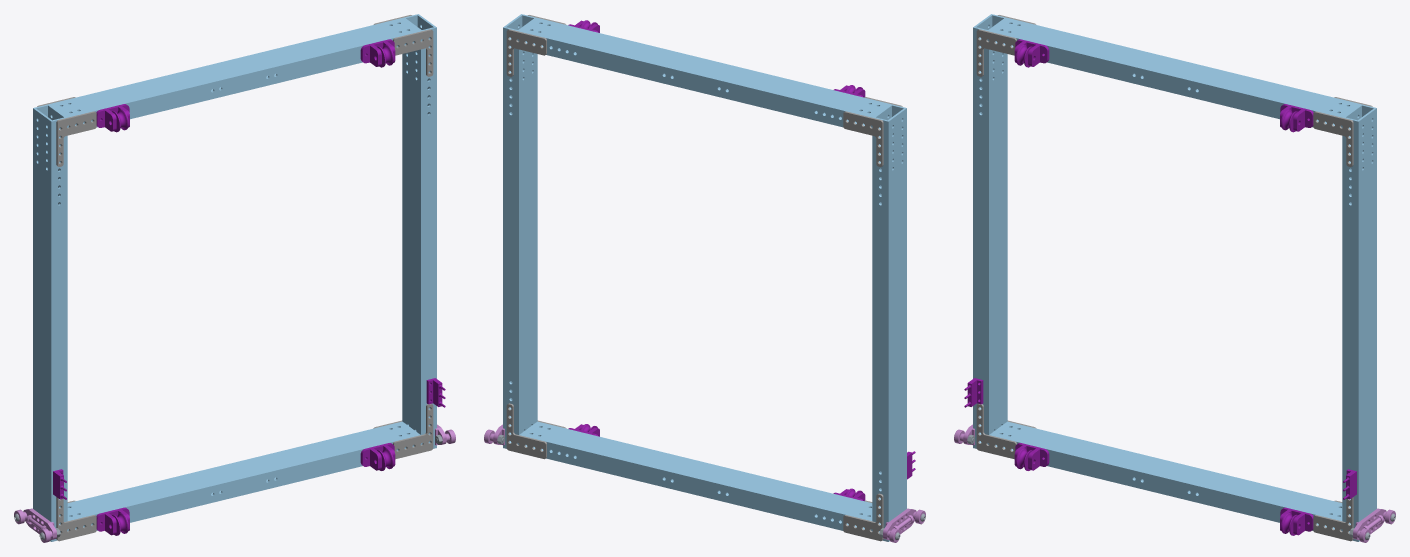
The picture shows the model from 3 angles, left to right: view 1: azimuth 30°, elevation 25°; view 2: azimuth 150°, elevation 25°; view 3: azimuth 330°, elevation 25°; orthographic projection.
Parts seen in each view (by area): view 1: Middle Stage Side Tube (×2), Middle Stage Top & Bottom Tube (×2), Middle Stage Tube Connector Gusset (×4), 4mm Dyneema Cable Pulley Bracket ELEV-PULLEY-001 (×4); view 2: Middle Stage Side Tube (×2), Middle Stage Top & Bottom Tube (×2), Middle Stage Tube Connector Gusset (×4); view 3: Middle Stage Side Tube (×2), Middle Stage Top & Bottom Tube (×2), Middle Stage Tube Connector Gusset (×4), 4mm Dyneema Cable Pulley Bracket ELEV-PULLEY-001 (×4).
Boxes of the visible parts, x1,y1,x2,y2 form: Middle Stage Side Tube (×2): (33,14,436,541); Middle Stage Top & Bottom Tube (×2): (49,18,420,530); Middle Stage Tube Connector Gusset (×4): (56,29,433,541); 4mm Dyneema Cable Pulley Bracket ELEV-PULLEY-001 (×4): (96,39,395,535); Middle Stage Side Tube (×2): (503,14,906,541); Middle Stage Top & Bottom Tube (×2): (519,18,890,530); Middle Stage Tube Connector Gusset (×4): (506,29,883,541); Middle Stage Side Tube (×2): (973,14,1376,541); Middle Stage Top & Bottom Tube (×2): (989,18,1360,530); Middle Stage Tube Connector Gusset (×4): (976,29,1353,541); 4mm Dyneema Cable Pulley Bracket ELEV-PULLEY-001 (×4): (1014,39,1313,535).
Bounding box in the file's own units: 0.6544 × 0.6388 × 0.1045.
